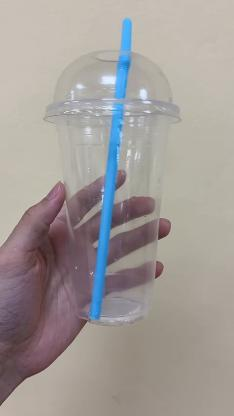Plastic Cup: (44, 48, 184, 326)
